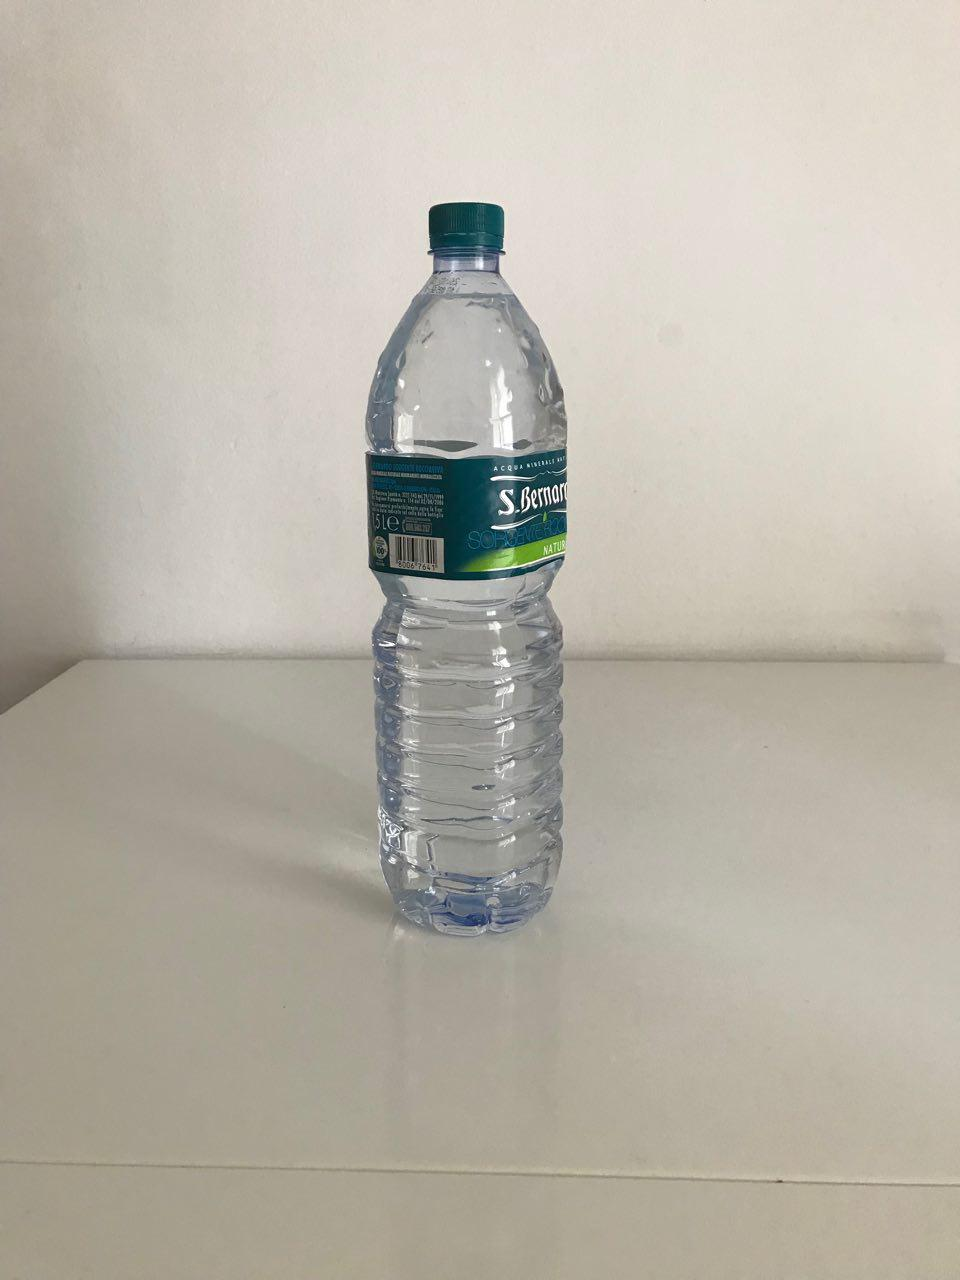san_bernardo: (364, 200, 573, 941)
